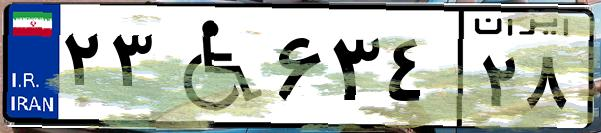2: (57, 26, 110, 100), (475, 38, 525, 113)
3: (330, 28, 385, 110), (110, 28, 158, 98)
4: (385, 28, 445, 110)
6: (270, 28, 330, 110)
8: (525, 38, 570, 115)
ژ (معلولین و جانبازان): (158, 12, 270, 120)
